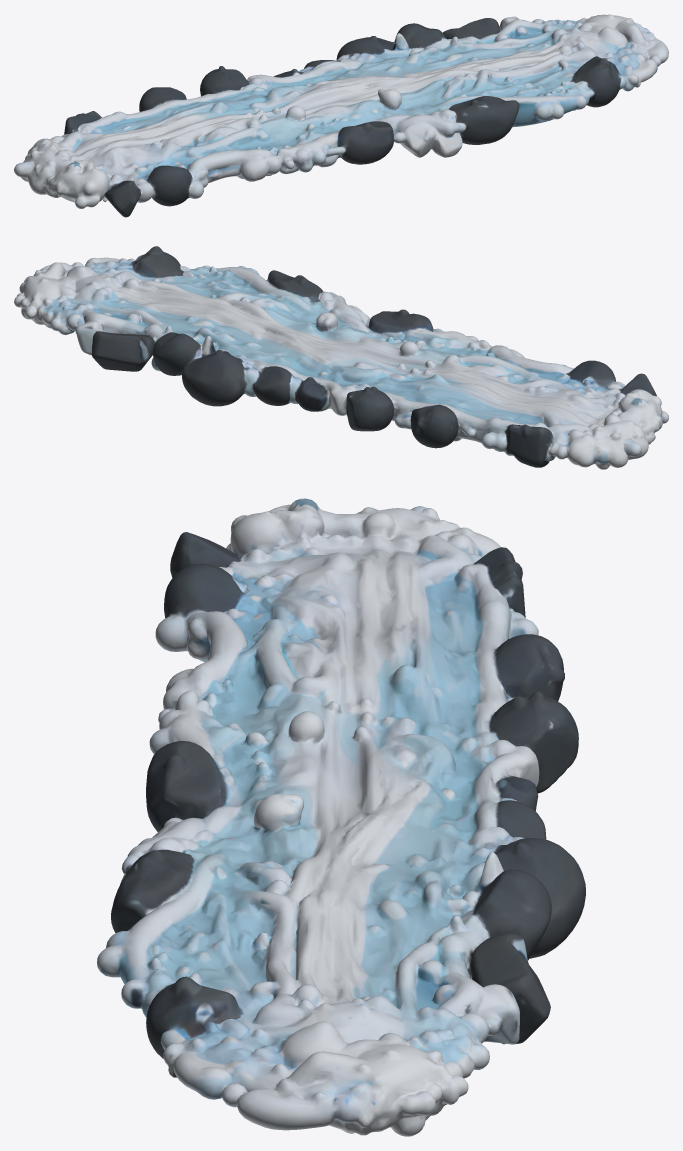
Rendered from nature-rapids.glb.
3 views of the same model, one above another, from view 1: azimuth 30°, elevation 25°; view 2: azimuth 150°, elevation 25°; view 3: azimuth 270°, elevation 25° (orthographic). The views are drawn at different scales.
Parts seen in each view (by area): view 1: tripo_node_8ab214cb-6e12-4fe0-bef6-8b37c74b771c; view 2: tripo_node_8ab214cb-6e12-4fe0-bef6-8b37c74b771c; view 3: tripo_node_8ab214cb-6e12-4fe0-bef6-8b37c74b771c.
Boxes of the visible parts, left/top/right/bottom form: tripo_node_8ab214cb-6e12-4fe0-bef6-8b37c74b771c: left=14, top=14, right=668, bottom=217; tripo_node_8ab214cb-6e12-4fe0-bef6-8b37c74b771c: left=14, top=246, right=668, bottom=469; tripo_node_8ab214cb-6e12-4fe0-bef6-8b37c74b771c: left=97, top=498, right=585, bottom=1136.
Bounding box in the file's own units: 5.99 × 0.5 × 2.05.
1 material, 1 textured.
